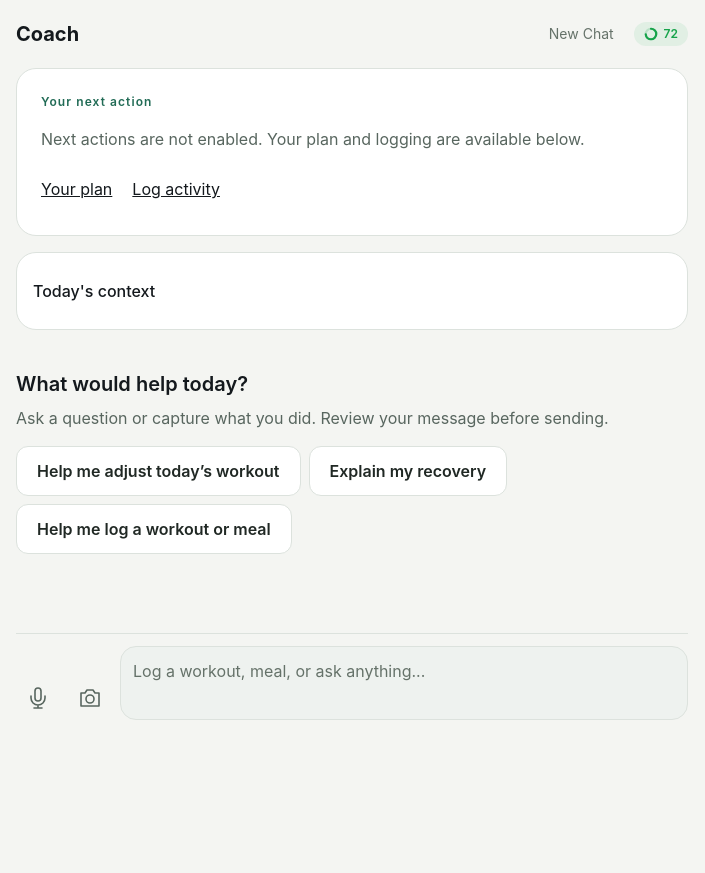
V2Page › input submission › shows network error messages on fetch failure
Type "test" into the text box named "Message input". click: (404, 683)
box: x1=121 y1=647 x2=687 y2=719
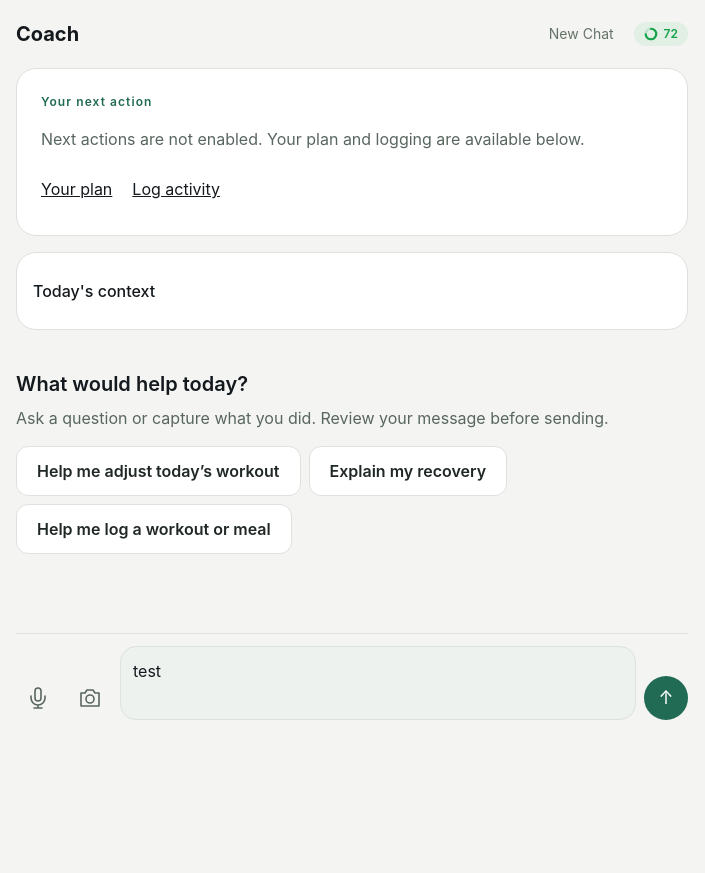
Click the button named "Send message". click: (666, 698)
box: x1=644 y1=676 x2=688 y2=720
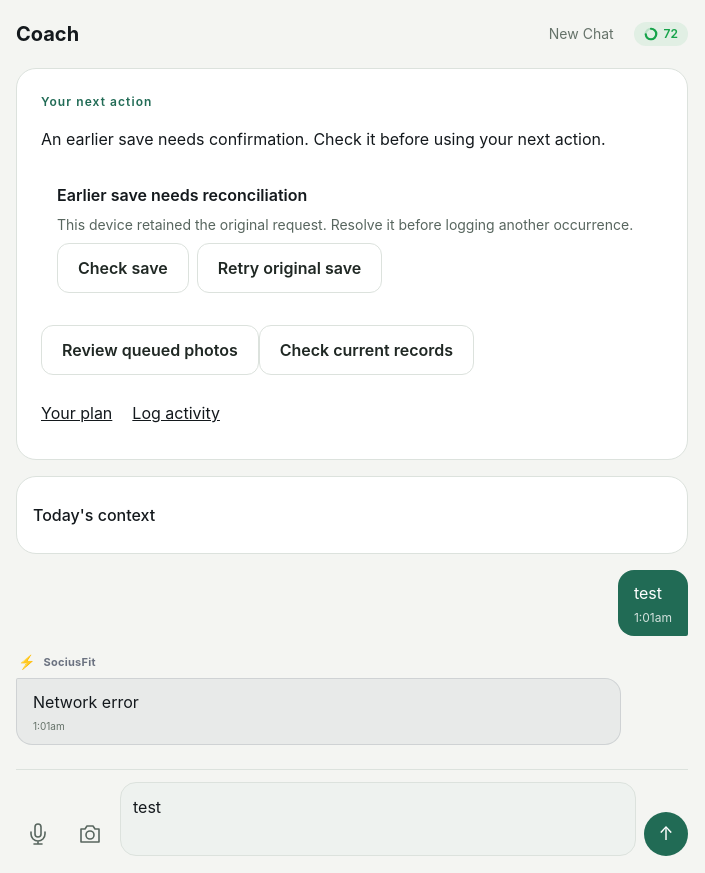
Expected: the text "Network error" is shown, x1=33 y1=692 x2=139 y2=712
